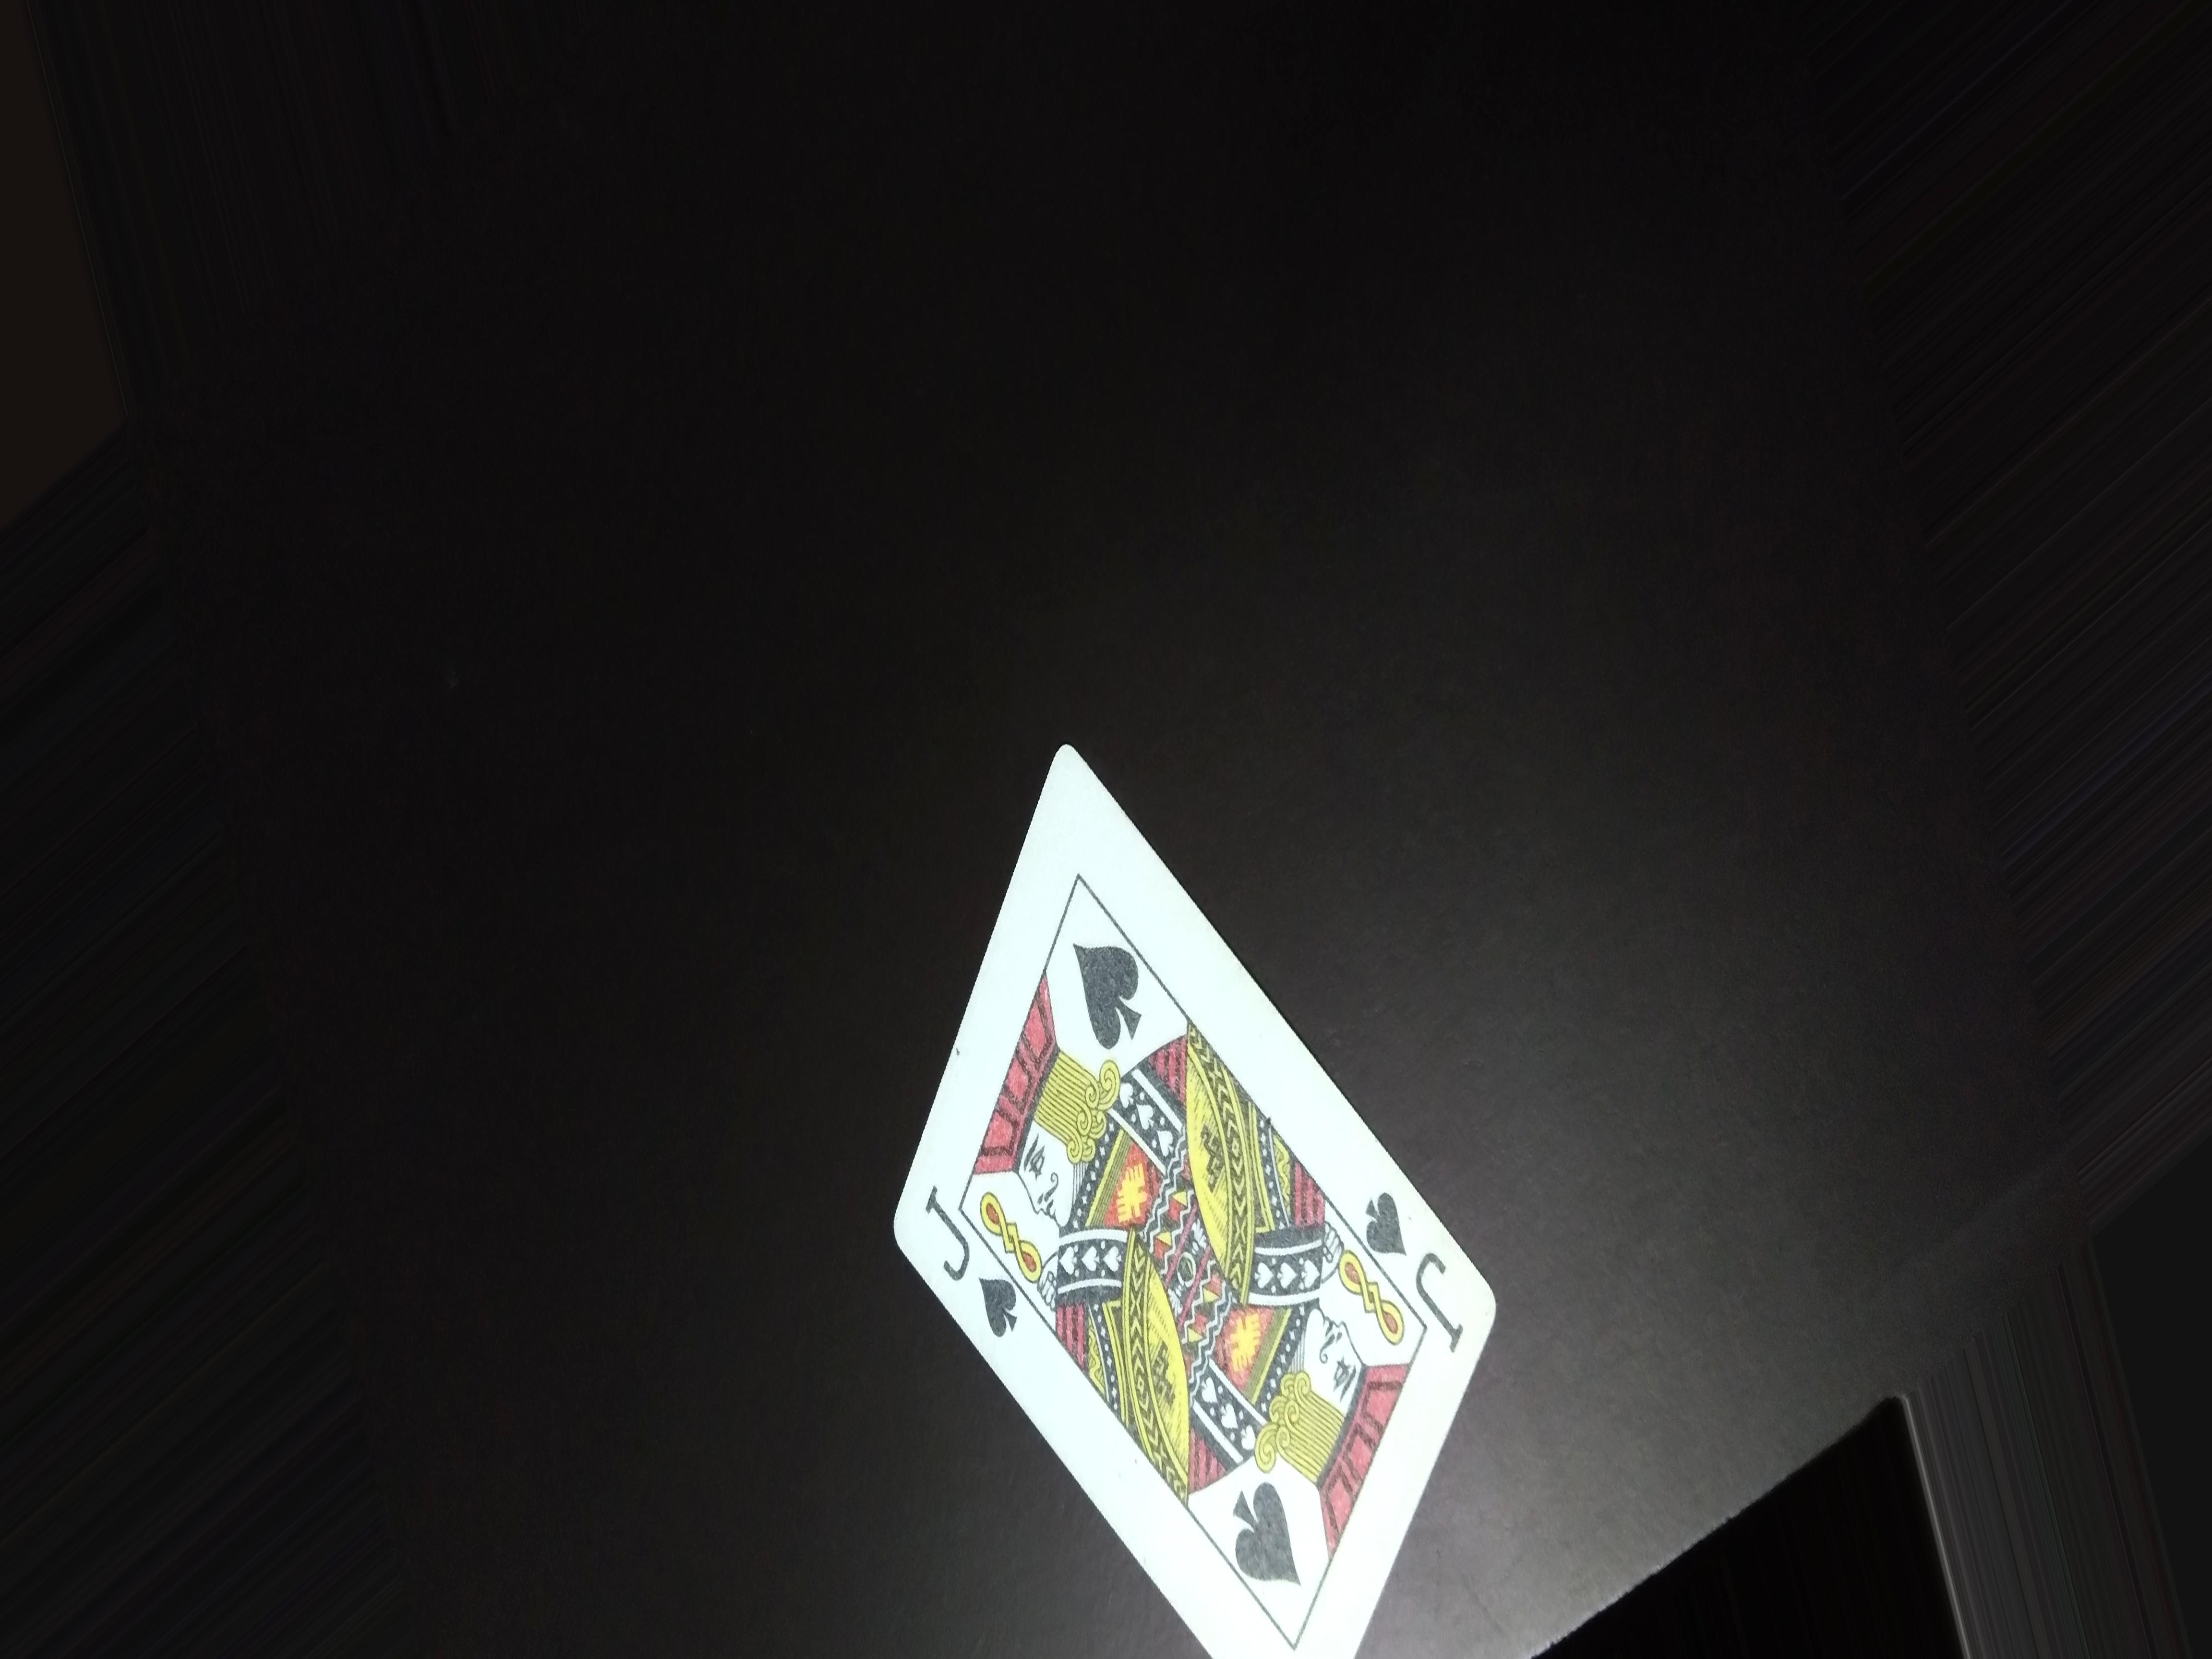JS: (1366, 1182, 1474, 1351)
